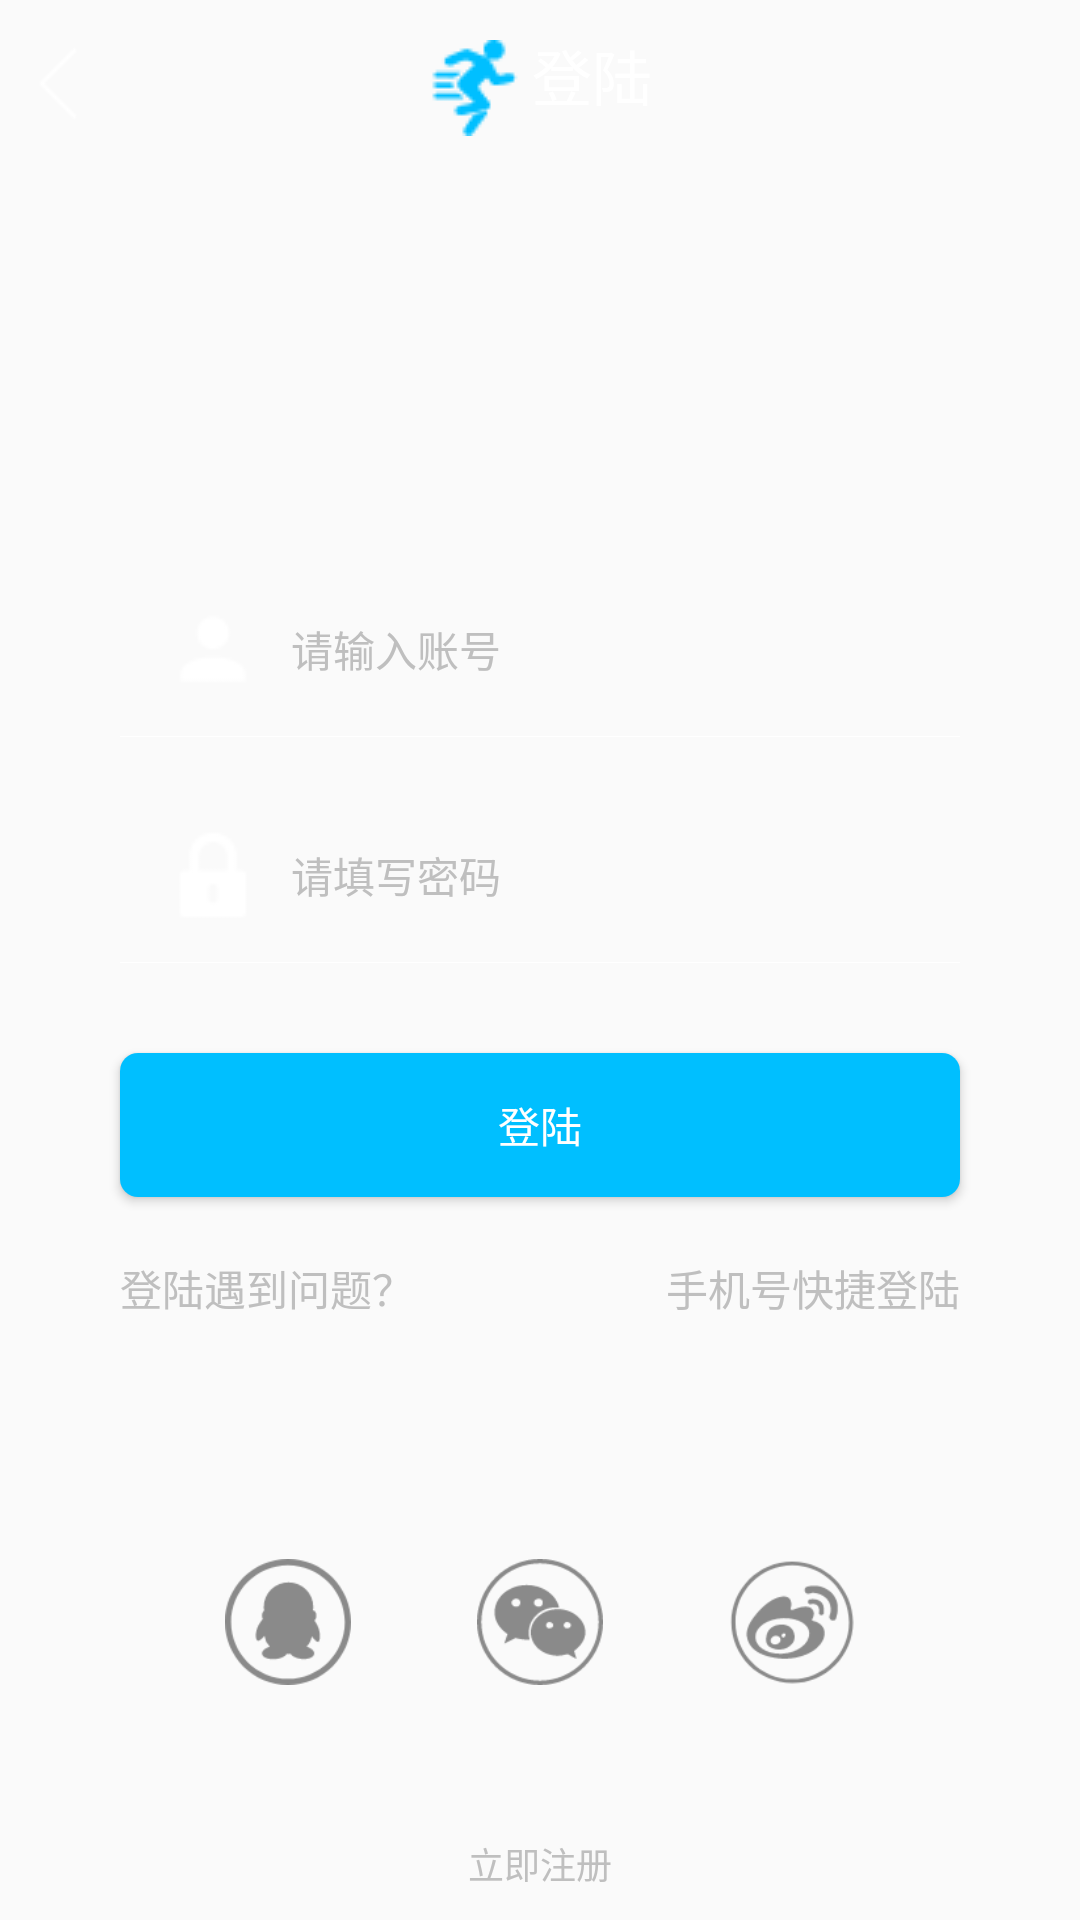

Icon click points for this 1080 × 1920 phone screenshot, format point (x, y):
run: point (474, 88)
